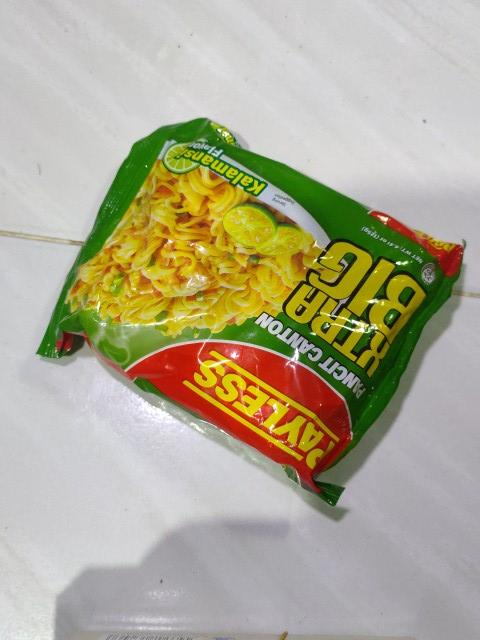Noodles: (37, 115, 470, 509)
